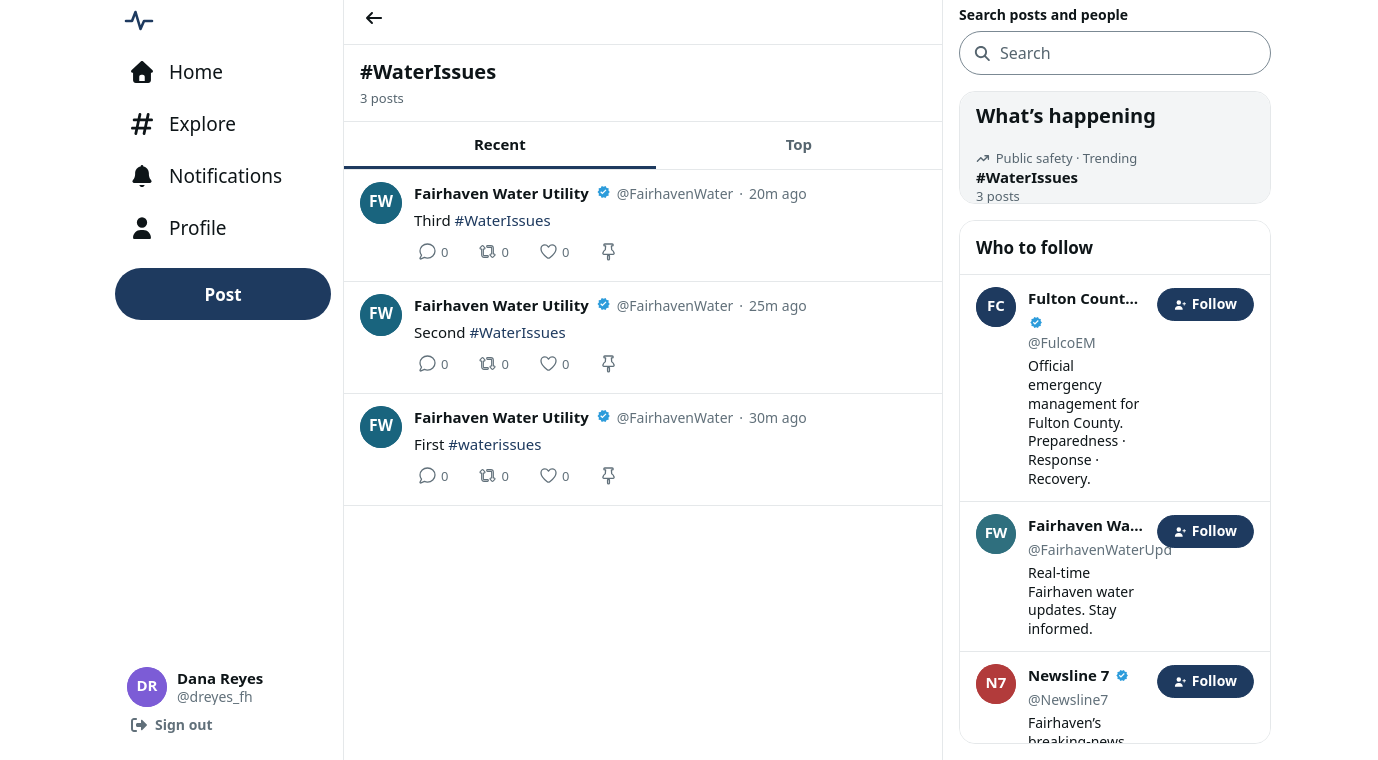
Scenario: the hashtag page, by deep link (M6) › opens an author's profile from a card on the hashtag page
What coordinates should you click on to do the following:
click the button with test id "post-author-target" in the row of "20m ago"
I would click on:
 (574, 194)
Its box is [414,182,733,206].
(page scrolled)
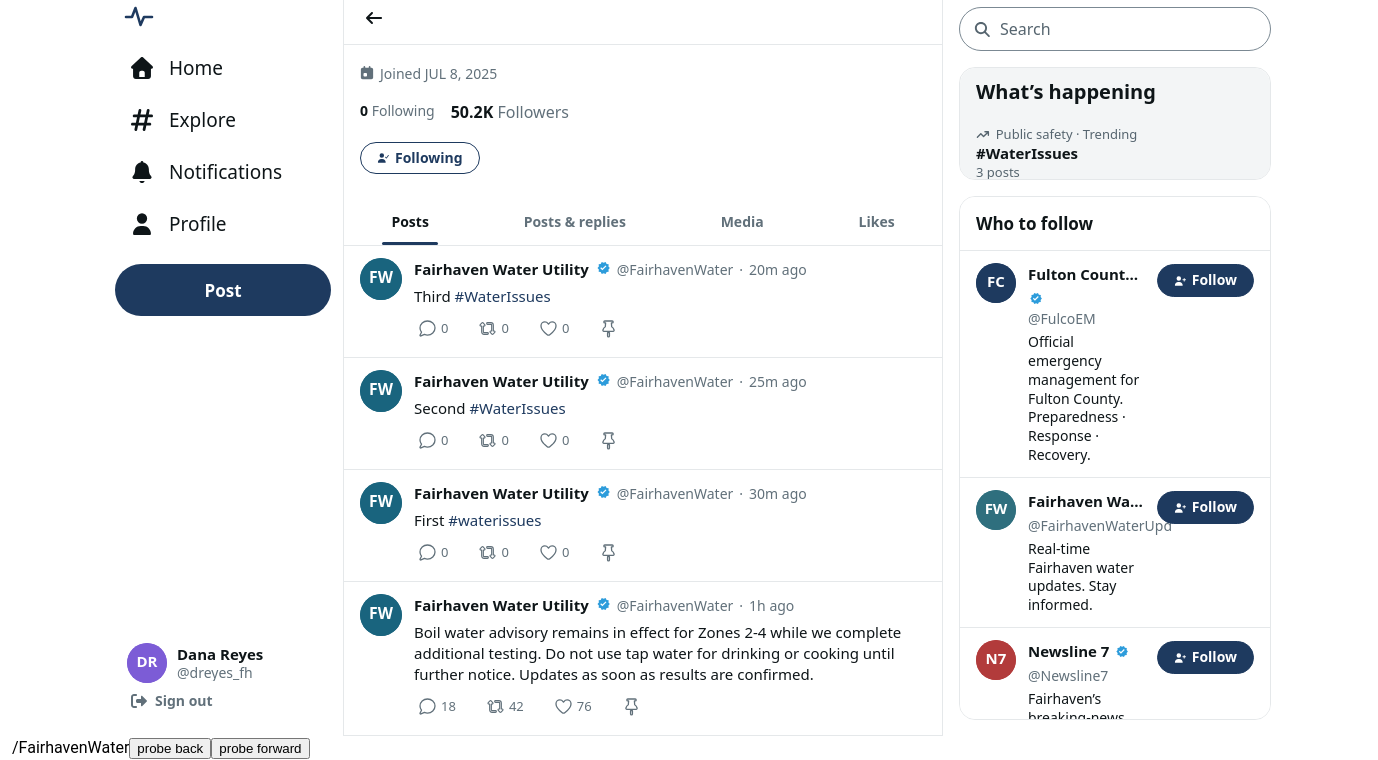
Now the text with test id "router-location" reads "/FairhavenWater", box [12,738,129,757]
